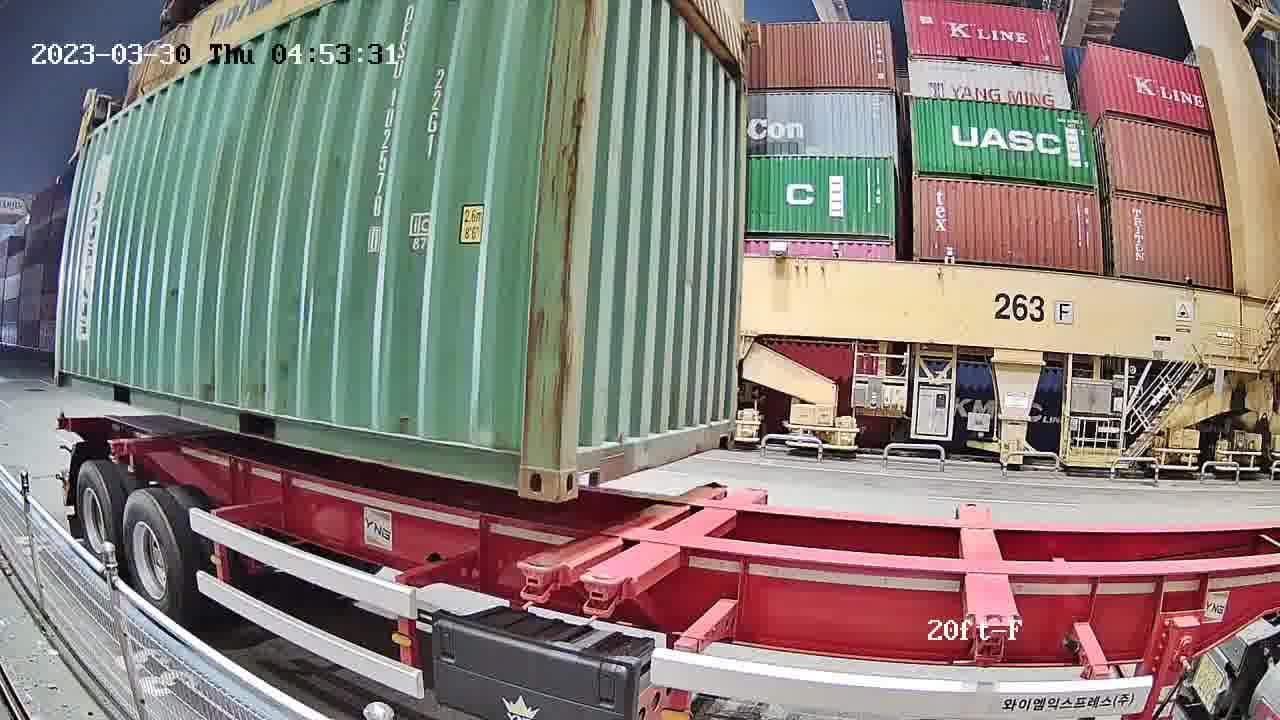Chassis: (583, 490, 768, 597), (521, 484, 727, 570)
Cone: (579, 571, 634, 626), (517, 553, 562, 610)
Hole_L: (557, 436, 605, 502)
Hole_R: (488, 432, 560, 501), (714, 409, 737, 449)
Tire: (119, 493, 183, 617), (77, 462, 117, 562)
